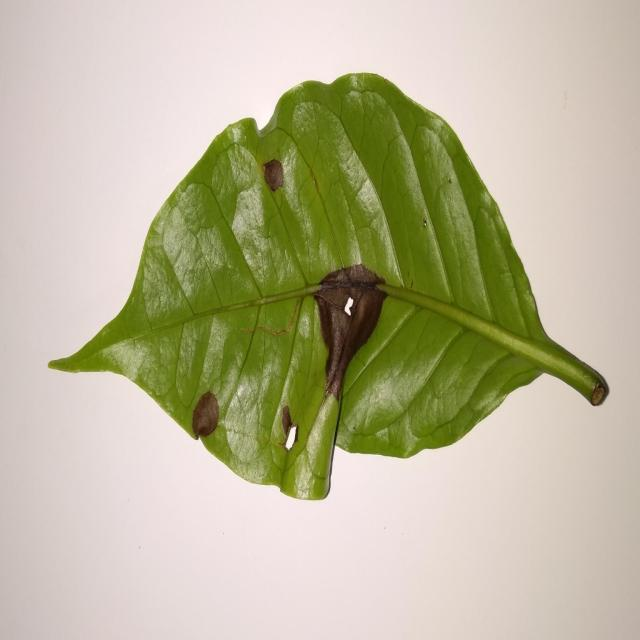phoma: (314, 264, 387, 400), (192, 391, 220, 439), (281, 406, 299, 461), (262, 159, 284, 191)
